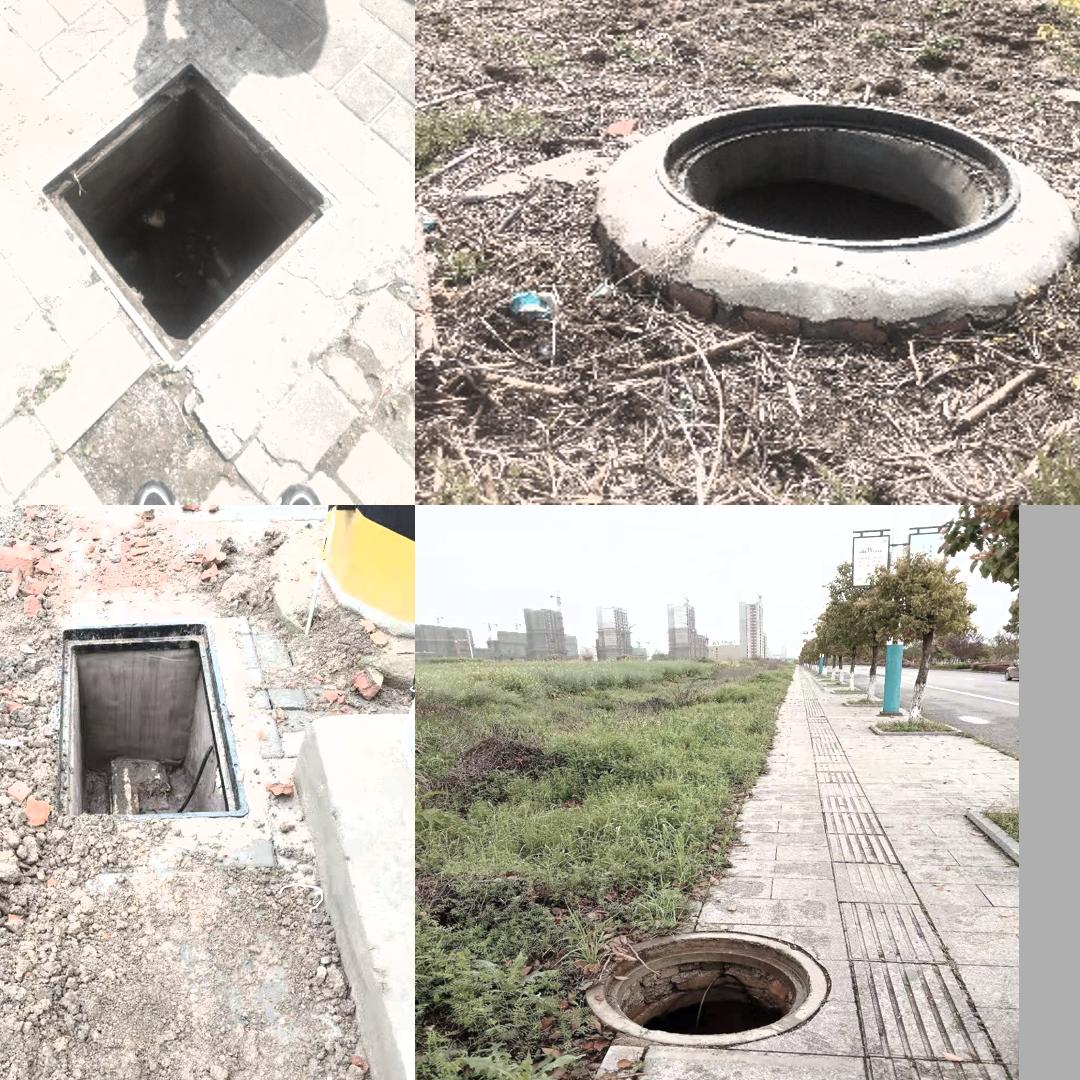lose: (37, 59, 342, 374), (8, 600, 280, 884), (653, 100, 1018, 249), (583, 930, 827, 1044)
